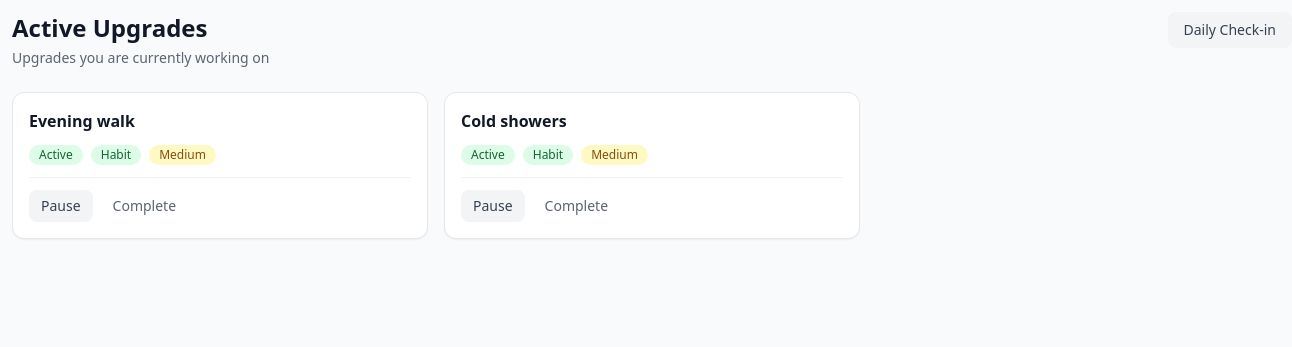
Test: ActiveUpgradesPage › GivenSeveralCards_WhenAPauseIsRefused_ThenTheRefusalIsShownWithThePressedCard
Expected: the link "Cold showers" is shown, left=461, top=110, right=567, bottom=132
Click the button "Pause " below "Cold showers": (493, 206) left=461, top=190, right=525, bottom=222
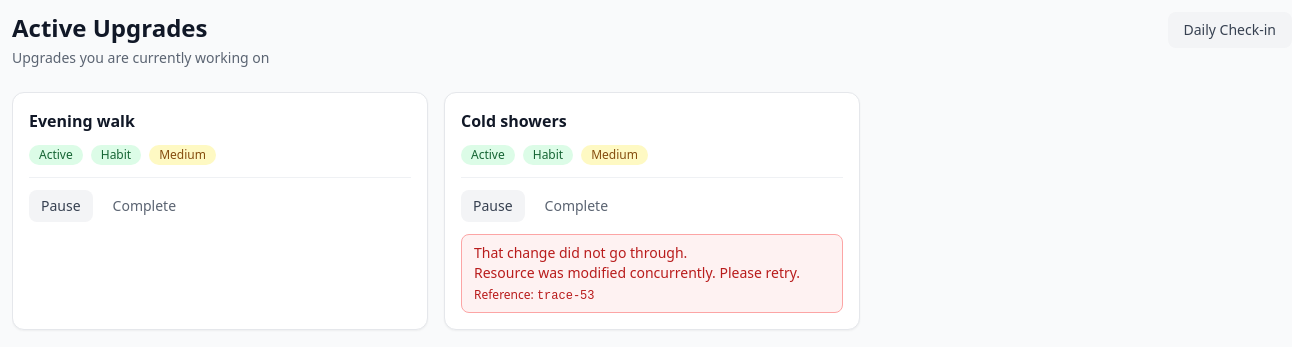
Result: the number of messages is 1 at left=461, top=234, right=843, bottom=313
